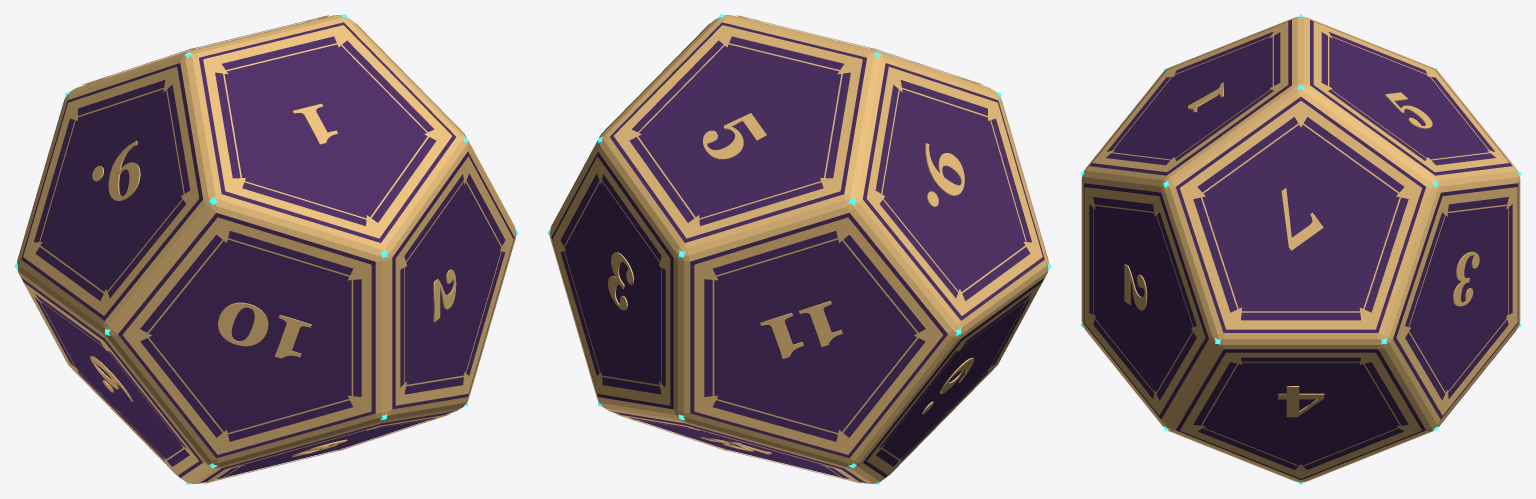
3 views of the same model, side by side, from view 1: azimuth 30°, elevation 25°; view 2: azimuth 150°, elevation 25°; view 3: azimuth 270°, elevation 25° (orthographic). The views are drawn at different scales.
Visible parts, largest first — view 1: D12_Body, D12_Inlay.003, D12_Inlay, D12_Inlay.009, D12_Inlay.001, D12_Inlay.010, D12_Number_10_Mesh, D12_Number_9._Mesh, D12_Inlay.006, D12_Number_2_Mesh, D12_Number_1_Mesh; view 2: D12_Body, D12_Inlay.008, D12_Inlay.005, D12_Inlay.009, D12_Inlay.002, D12_Inlay.010, D12_Number_11_Mesh, D12_Number_5_Mesh, D12_Number_9._Mesh, D12_Inlay.007, D12_Number_3_Mesh; view 3: D12_Body, D12_Inlay.011, D12_Inlay.004, D12_Inlay.001, D12_Inlay.002, D12_Inlay, D12_Inlay.005, D12_Number_4_Mesh, D12_Number_7_Mesh, D12_Number_3_Mesh, D12_Number_2_Mesh, D12_Number_5_Mesh.
Part boxes in pixels (x1,y1,x2,y2): D12_Body: (17, 15, 516, 483); D12_Inlay.003: (123, 217, 371, 454); D12_Inlay: (203, 25, 451, 238); D12_Inlay.009: (23, 67, 199, 315); D12_Inlay.001: (395, 156, 513, 405); D12_Inlay.010: (23, 282, 198, 475); D12_Number_10_Mesh: (218, 302, 311, 358); D12_Number_9._Mesh: (92, 140, 140, 200); D12_Inlay.006: (204, 414, 450, 483); D12_Number_2_Mesh: (433, 269, 456, 321); D12_Number_1_Mesh: (292, 103, 338, 144); D12_Body: (549, 15, 1048, 483); D12_Inlay.008: (694, 217, 942, 454); D12_Inlay.005: (614, 25, 862, 238); D12_Inlay.009: (866, 67, 1042, 315); D12_Inlay.002: (552, 156, 670, 405); D12_Inlay.010: (867, 282, 1042, 475); D12_Number_11_Mesh: (760, 301, 842, 358); D12_Number_5_Mesh: (703, 113, 766, 159); D12_Number_9._Mesh: (925, 143, 964, 206); D12_Inlay.007: (615, 414, 861, 483); D12_Number_3_Mesh: (608, 252, 634, 310); D12_Body: (1081, 17, 1520, 482); D12_Inlay.011: (1180, 101, 1421, 329); D12_Inlay.004: (1180, 352, 1421, 478); D12_Inlay.001: (1084, 187, 1205, 415); D12_Inlay.002: (1396, 187, 1517, 415); D12_Inlay: (1092, 22, 1288, 172); D12_Inlay.005: (1313, 22, 1509, 172); D12_Number_4_Mesh: (1278, 386, 1324, 417); D12_Number_7_Mesh: (1281, 188, 1323, 250); D12_Number_3_Mesh: (1453, 251, 1479, 306); D12_Number_2_Mesh: (1124, 264, 1147, 310); D12_Number_5_Mesh: (1385, 92, 1432, 128).
Size of what is drawn, in the model's own units: 1.33 by 1.33 by 1.33.
